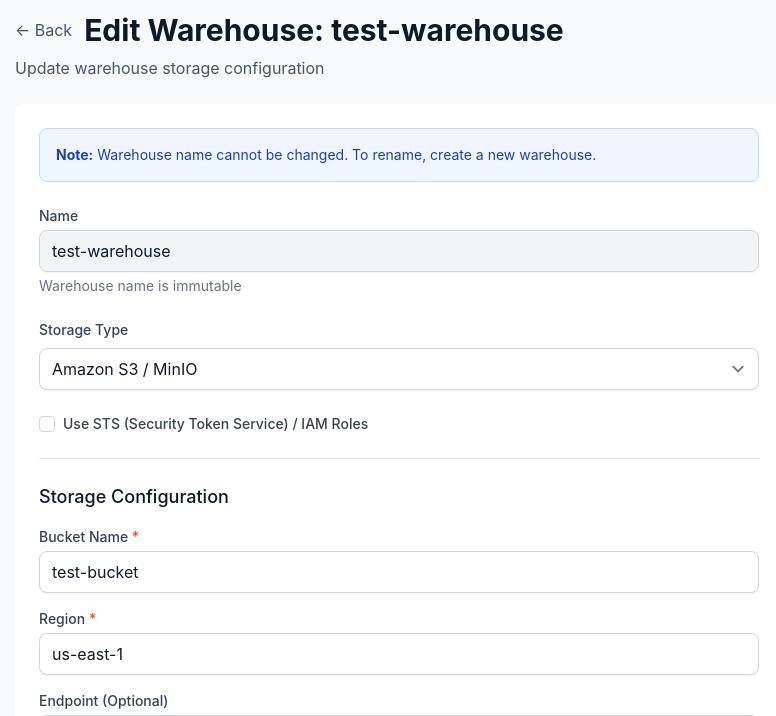
Test case: Warehouse Edit Page › handles storage type change
The image size is (776, 716).
Find select by its current value
Select "Azure Blob Storage" in the dropdown showing "Amazon S3 / MinIO" at (399, 369), box [39,348,759,390]
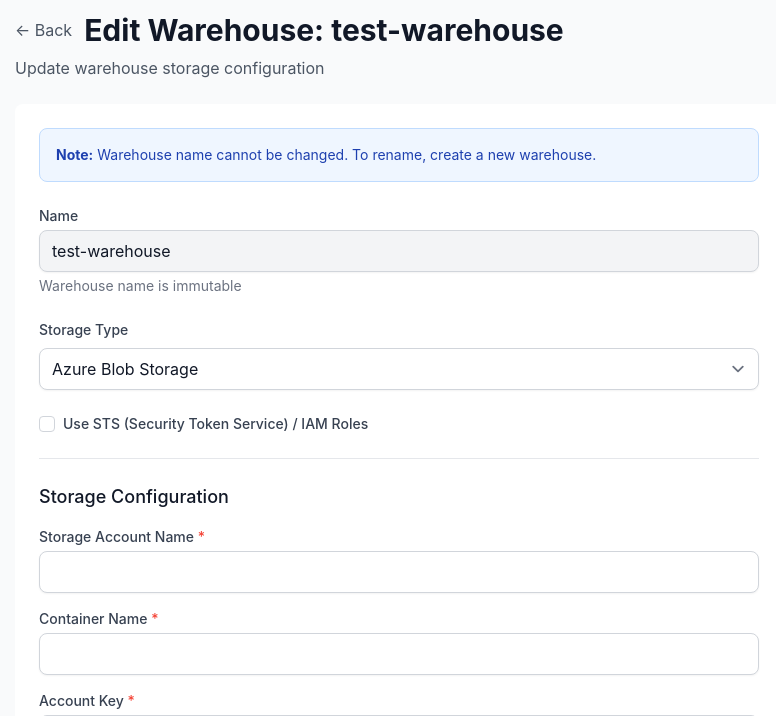
Expected: the field labelled "Storage Account Name *" is shown, [39,551,759,593]
Expected: the field labelled "Container Name *" is shown, [39,633,759,675]
